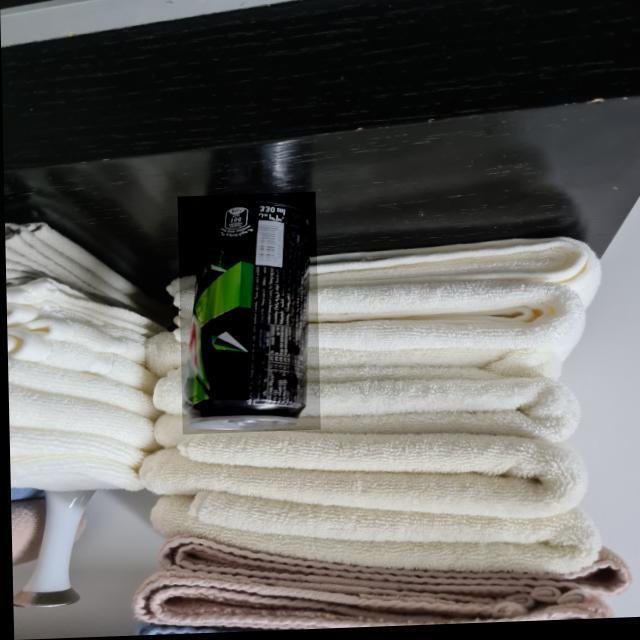trash: (176, 190, 318, 430)
